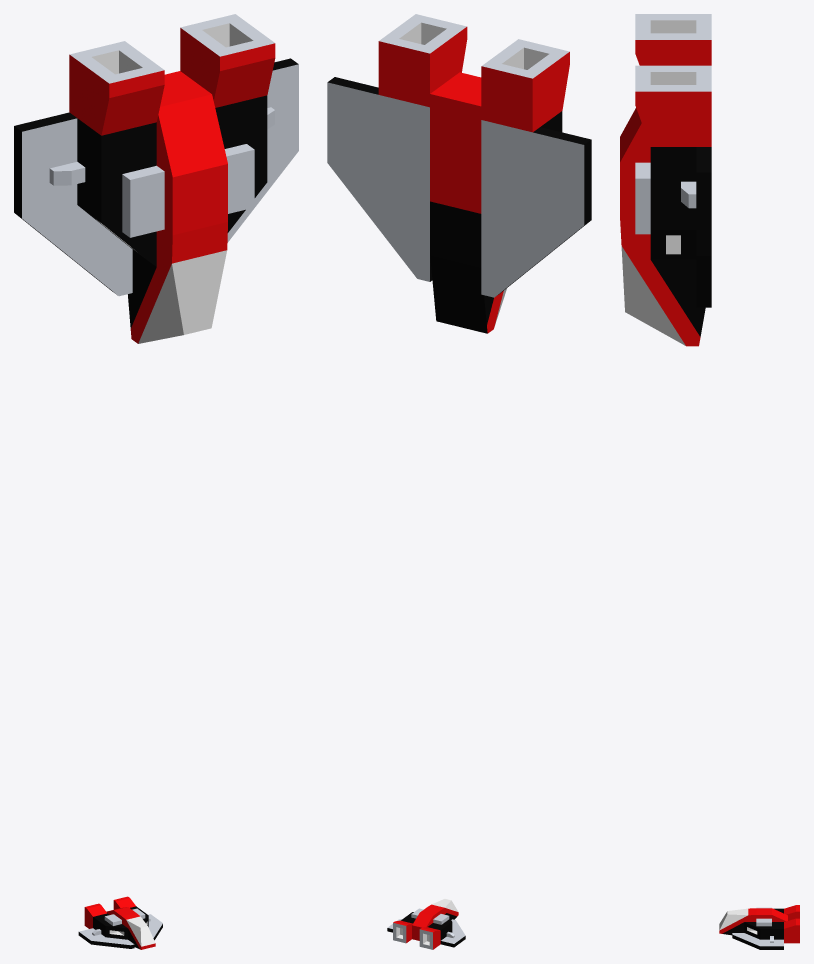
File: craft_speederB.obj
3 renders of one model, left to right at view 1: azimuth 30°, elevation 25°; view 2: azimuth 150°, elevation 25°; view 3: azimuth 270°, elevation 25°, orthographic. The views are drawn at different scales.
Visible parts, largest first — view 1: craft_speederB.003, craft_speederB; view 2: craft_speederB.003, craft_speederB; view 3: craft_speederB.003, craft_speederB.
Boxes of the visible parts, <box> form: craft_speederB.003: <box>14,14,298,343</box>; craft_speederB: <box>78,896,162,949</box>; craft_speederB.003: <box>327,14,591,333</box>; craft_speederB: <box>387,899,465,949</box>; craft_speederB.003: <box>620,14,711,346</box>; craft_speederB: <box>719,905,799,949</box>.
Bounding box in the file's own units: 7.69 × 24.43 × 4.53.
